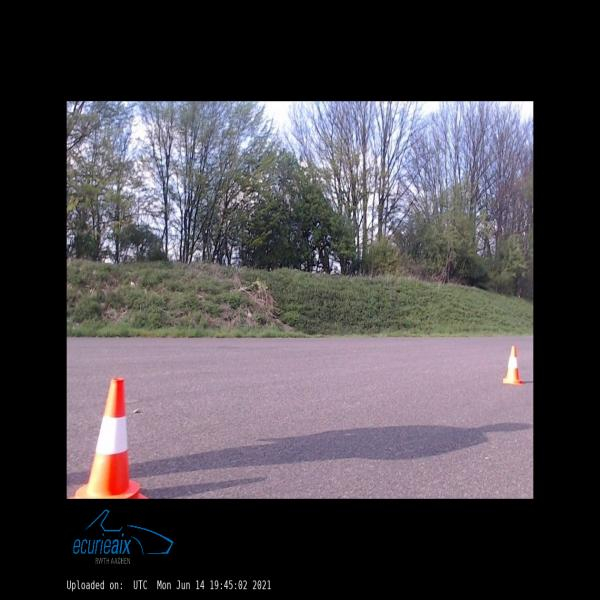orange_cone: (67, 378, 150, 499), (503, 346, 523, 384)
